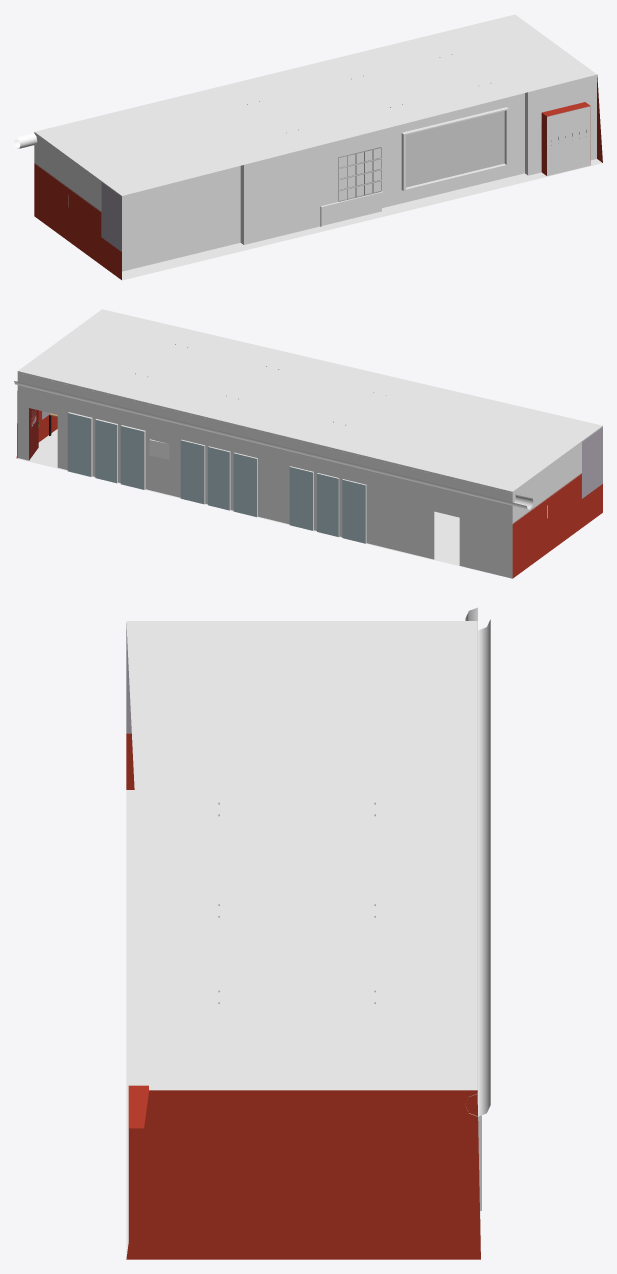
File: mesh_CITL_Environment 1.fbx
3 renders of one model, top to bottom at view 1: azimuth 30°, elevation 25°; view 2: azimuth 150°, elevation 25°; view 3: azimuth 270°, elevation 25°, orthographic. The views are drawn at different scales.
Parts seen in each view (by area): view 1: mesh_Walls.002, mesh_vr_drawers.002; view 2: mesh_Walls.002, mesh_frontwall.002, mesh_sidewall1.002, mesh_sidewalls.002, mesh_pipe.002, mesh_frontdoor.002; view 3: mesh_Walls.002, mesh_pipe.002.
Boxes of the visible parts, x1,y1,x2,y2 form: mesh_Walls.002: [34, 14, 602, 280]; mesh_vr_drawers.002: [338, 147, 381, 201]; mesh_Walls.002: [16, 309, 602, 578]; mesh_frontwall.002: [17, 371, 163, 493]; mesh_sidewall1.002: [272, 433, 381, 546]; mesh_sidewalls.002: [163, 406, 272, 519]; mesh_pipe.002: [14, 381, 533, 509]; mesh_frontdoor.002: [29, 408, 39, 460]; mesh_Walls.002: [126, 621, 480, 1259]; mesh_pipe.002: [465, 607, 490, 1116].
Bounding box in the file's own units: 2803 × 462 × 887.
